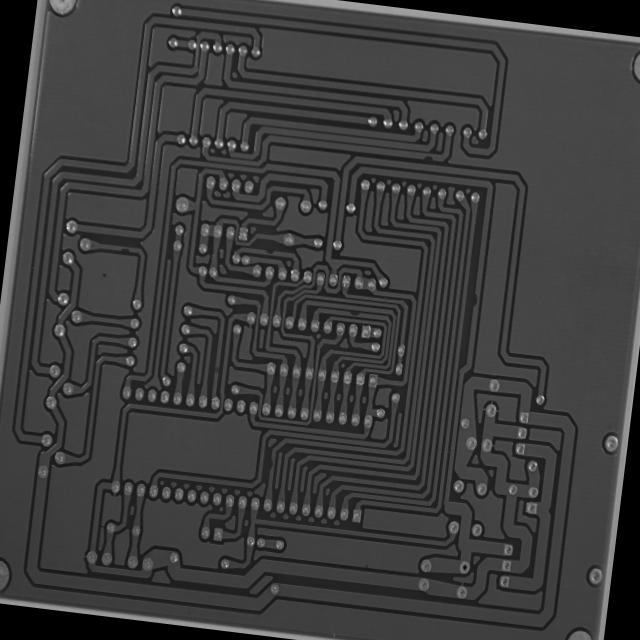mouse_bite: (467, 288, 480, 310), (116, 242, 132, 255), (345, 307, 362, 318), (420, 151, 434, 163), (265, 456, 275, 472), (262, 246, 276, 256)
